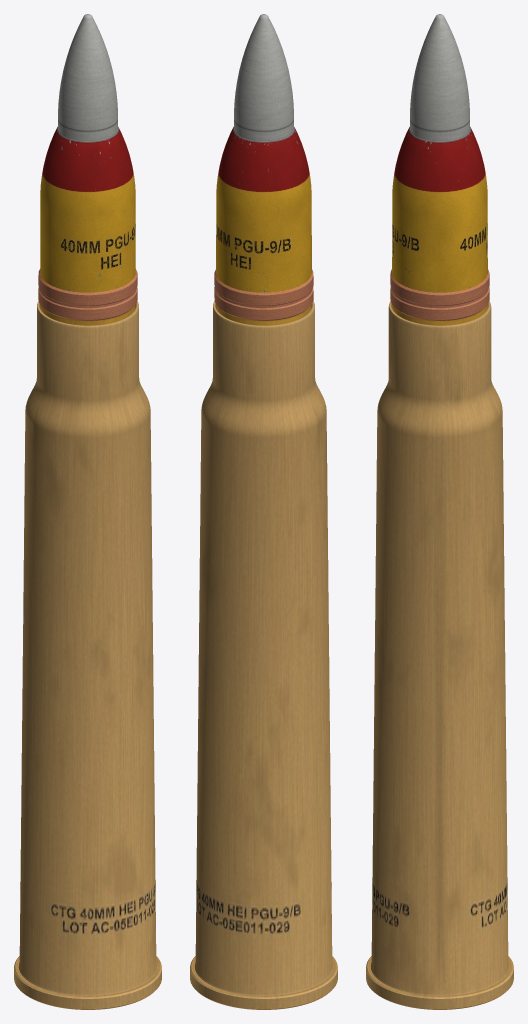
The picture shows the model from 3 angles, left to right: view 1: azimuth 30°, elevation 25°; view 2: azimuth 150°, elevation 25°; view 3: azimuth 270°, elevation 25°; orthographic projection.
Visible parts, largest first — view 1: Capsula_40mm, Projetil_40mm; view 2: Capsula_40mm, Projetil_40mm; view 3: Capsula_40mm, Projetil_40mm.
Boxes of the visible parts, x1,y1,x2,y2 form: Capsula_40mm: (14, 300, 161, 1009); Projetil_40mm: (38, 14, 137, 325); Capsula_40mm: (190, 300, 337, 1009); Projetil_40mm: (214, 14, 313, 325); Capsula_40mm: (366, 301, 513, 1009); Projetil_40mm: (390, 14, 489, 325).
Size of the model in its own units: 0.0619 by 0.445 by 0.0619.
2 materials, 2 textured.
